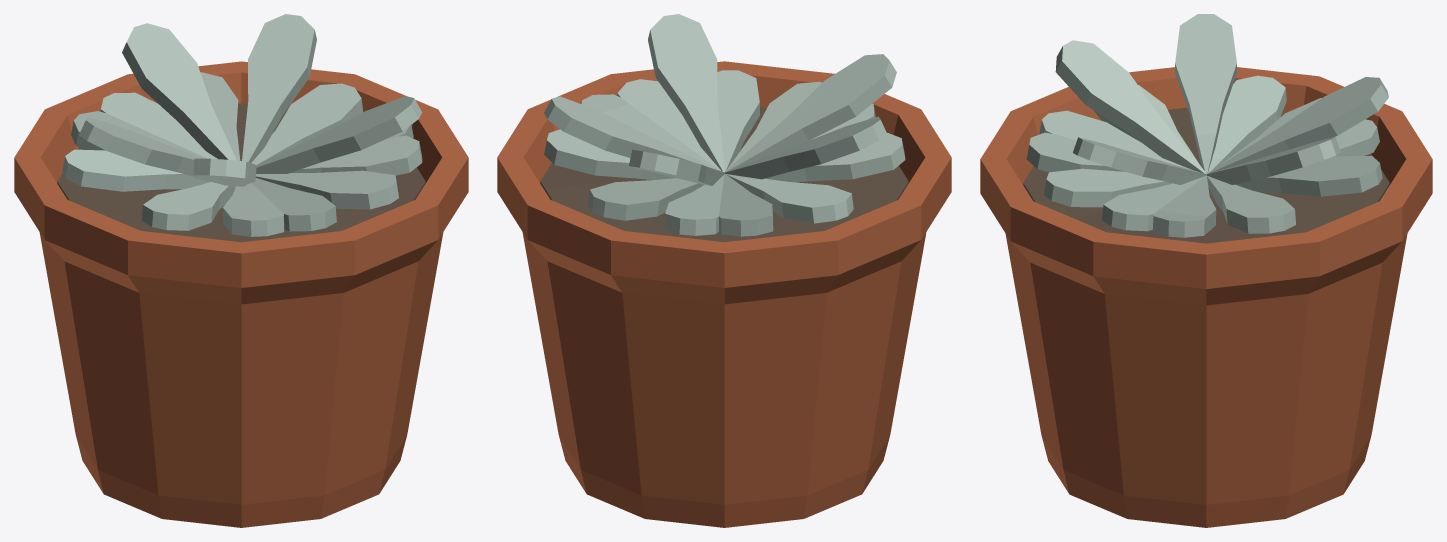
File: new-elegans.glb
3 views of the same model, side by side, from view 1: azimuth 30°, elevation 25°; view 2: azimuth 150°, elevation 25°; view 3: azimuth 270°, elevation 25° (orthographic).
Parts seen in each view (by area): view 1: new-elegans/review-terra-vessel, new-elegans/leaf-015, new-elegans/leaf-012, new-elegans/review-rooted-soil, new-elegans/leaf-014, new-elegans/leaf-004, new-elegans/leaf-005, new-elegans/leaf-006, new-elegans/leaf-008, new-elegans/leaf-013, new-elegans/leaf-001, new-elegans/leaf-002 (+5 smaller); view 2: new-elegans/review-terra-vessel, new-elegans/review-rooted-soil, new-elegans/leaf-014, new-elegans/leaf-016, new-elegans/leaf-012, new-elegans/leaf-013, new-elegans/leaf-005, new-elegans/leaf-007, new-elegans/leaf-006, new-elegans/leaf-008, new-elegans/leaf-004, new-elegans/leaf-001 (+5 smaller); view 3: new-elegans/review-terra-vessel, new-elegans/leaf-016, new-elegans/review-rooted-soil, new-elegans/leaf-013, new-elegans/leaf-015, new-elegans/leaf-005, new-elegans/leaf-007, new-elegans/leaf-006, new-elegans/leaf-004, new-elegans/leaf-009, new-elegans/leaf-012, new-elegans/leaf-014 (+6 smaller).
Boxes of the visible parts, box(x1,y1,x2,y2) form: new-elegans/review-terra-vessel: box(14, 61, 468, 527); new-elegans/leaf-015: box(122, 23, 236, 160); new-elegans/leaf-012: box(242, 14, 316, 162); new-elegans/review-rooted-soil: box(57, 103, 425, 242); new-elegans/leaf-014: box(256, 96, 422, 173); new-elegans/leaf-004: box(251, 83, 363, 164); new-elegans/leaf-005: box(62, 149, 210, 191); new-elegans/leaf-006: box(255, 170, 398, 209); new-elegans/leaf-008: box(141, 182, 235, 230); new-elegans/leaf-013: box(79, 117, 203, 176); new-elegans/leaf-001: box(291, 135, 422, 175); new-elegans/leaf-002: box(100, 92, 217, 158); new-elegans/review-terra-vessel: box(497, 61, 951, 527); new-elegans/review-rooted-soil: box(540, 107, 908, 242); new-elegans/leaf-014: box(648, 14, 724, 172); new-elegans/leaf-016: box(725, 54, 896, 171); new-elegans/leaf-012: box(544, 96, 722, 171); new-elegans/leaf-013: box(725, 116, 887, 179); new-elegans/leaf-005: box(726, 174, 853, 223); new-elegans/leaf-007: box(588, 178, 704, 220); new-elegans/leaf-006: box(717, 70, 759, 170); new-elegans/leaf-008: box(765, 133, 905, 182); new-elegans/leaf-004: box(544, 129, 675, 180); new-elegans/leaf-001: box(617, 79, 720, 170); new-elegans/review-terra-vessel: box(980, 67, 1432, 527); new-elegans/leaf-016: box(1055, 40, 1205, 173); new-elegans/review-rooted-soil: box(1023, 107, 1389, 243); new-elegans/leaf-013: box(1175, 14, 1236, 173); new-elegans/leaf-015: box(1207, 77, 1388, 173); new-elegans/leaf-005: box(1208, 75, 1286, 172); new-elegans/leaf-007: box(1235, 156, 1382, 196); new-elegans/leaf-006: box(1044, 168, 1172, 207); new-elegans/leaf-004: box(1207, 176, 1295, 233); new-elegans/leaf-009: box(1153, 175, 1216, 237); new-elegans/leaf-012: box(1206, 137, 1340, 184); new-elegans/leaf-014: box(1073, 137, 1206, 184).
Bounding box in the file's own units: 0.19 × 0.1731 × 0.19.
Materials: 3 (3 with a texture image).
